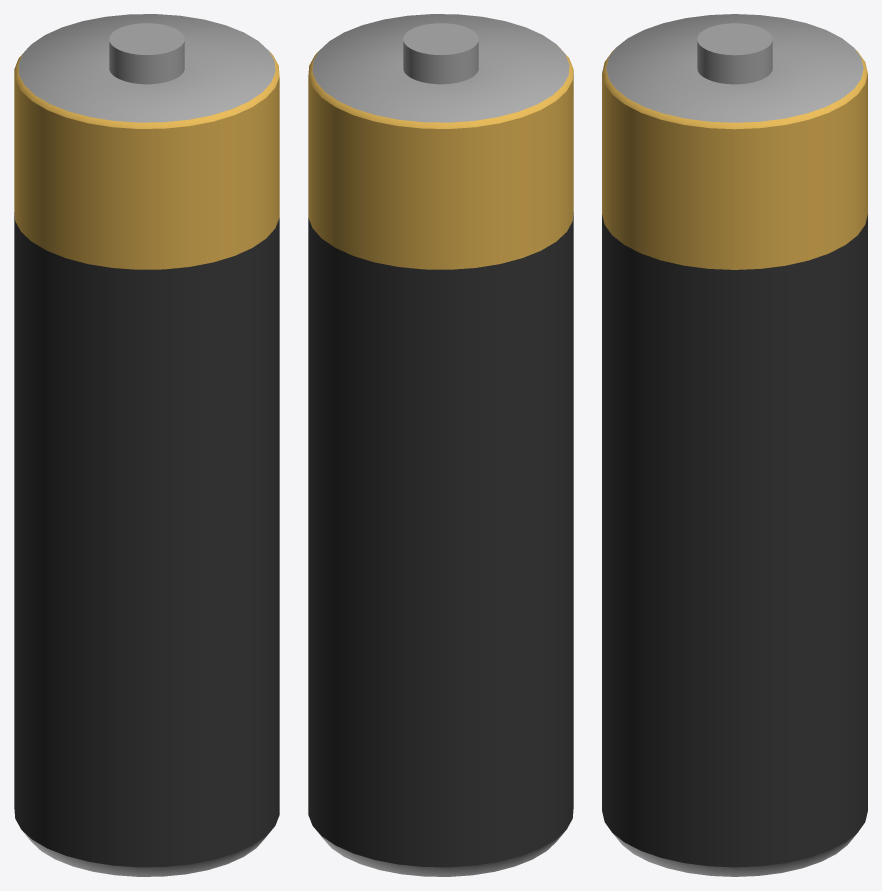
Rendered from battery.fbx.
3 views of the same model, side by side, from view 1: azimuth 30°, elevation 25°; view 2: azimuth 150°, elevation 25°; view 3: azimuth 270°, elevation 25° (orthographic).
Visible parts, largest first — view 1: Battery; view 2: Battery; view 3: Battery.
Boxes of the visible parts, box(x1,y1,x2,y2) form: Battery: box(14, 14, 279, 876); Battery: box(308, 14, 573, 876); Battery: box(602, 14, 867, 876).
Bounding box in the file's own units: 17.4 × 56.8 × 17.4.
